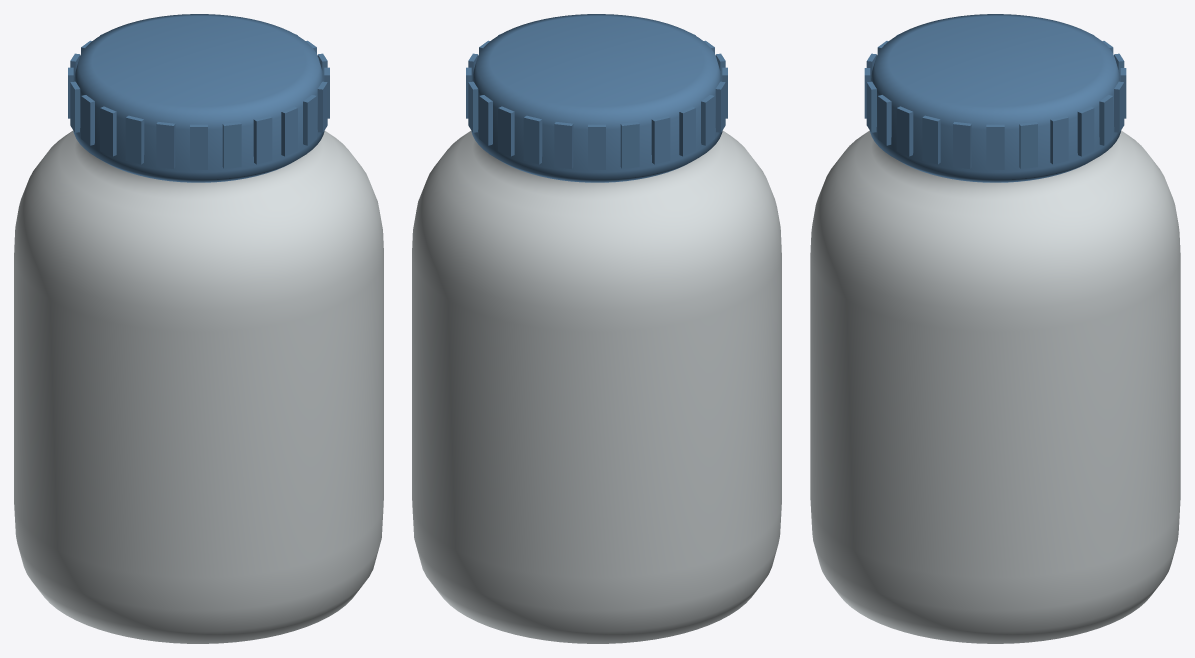
File: media_bottle.glb
3 renders of one model, left to right at view 1: azimuth 30°, elevation 25°; view 2: azimuth 150°, elevation 25°; view 3: azimuth 270°, elevation 25°, orthographic.
Visible parts, largest first — view 1: media_bottle_body, media_bottle_cap_body, media_bottle; view 2: media_bottle_body, media_bottle_cap_body, media_bottle; view 3: media_bottle_body, media_bottle_cap_body, media_bottle.
Part boxes in pixels (x1,y1,x2,y2): media_bottle_body: (14,130,383,643); media_bottle_cap_body: (73,14,324,182); media_bottle: (68,34,329,169); media_bottle_body: (412,130,781,643); media_bottle_cap_body: (471,14,722,182); media_bottle: (466,34,727,169); media_bottle_body: (810,130,1180,643); media_bottle_cap_body: (870,14,1120,182); media_bottle: (864,34,1126,169).
Size of the model in its own units: 0.0792 by 0.1234 by 0.0792.
